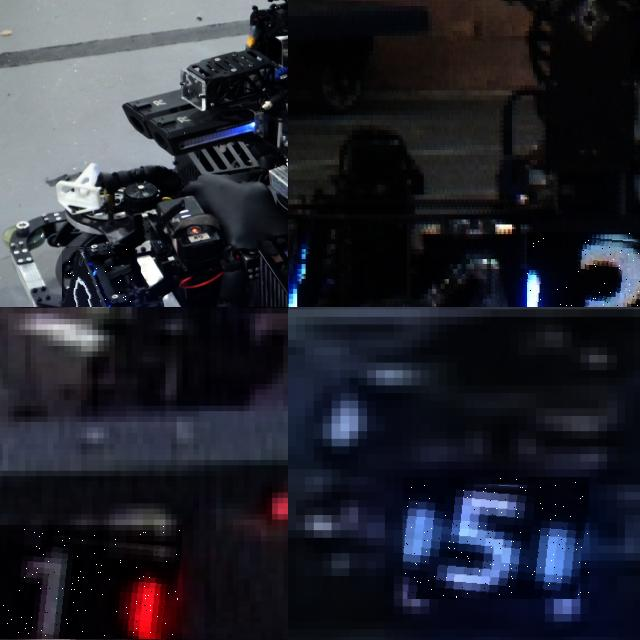B3: (527, 231, 640, 307)
B5: (403, 477, 589, 599)
Bs: (62, 246, 135, 307)
R1: (0, 525, 182, 639)
